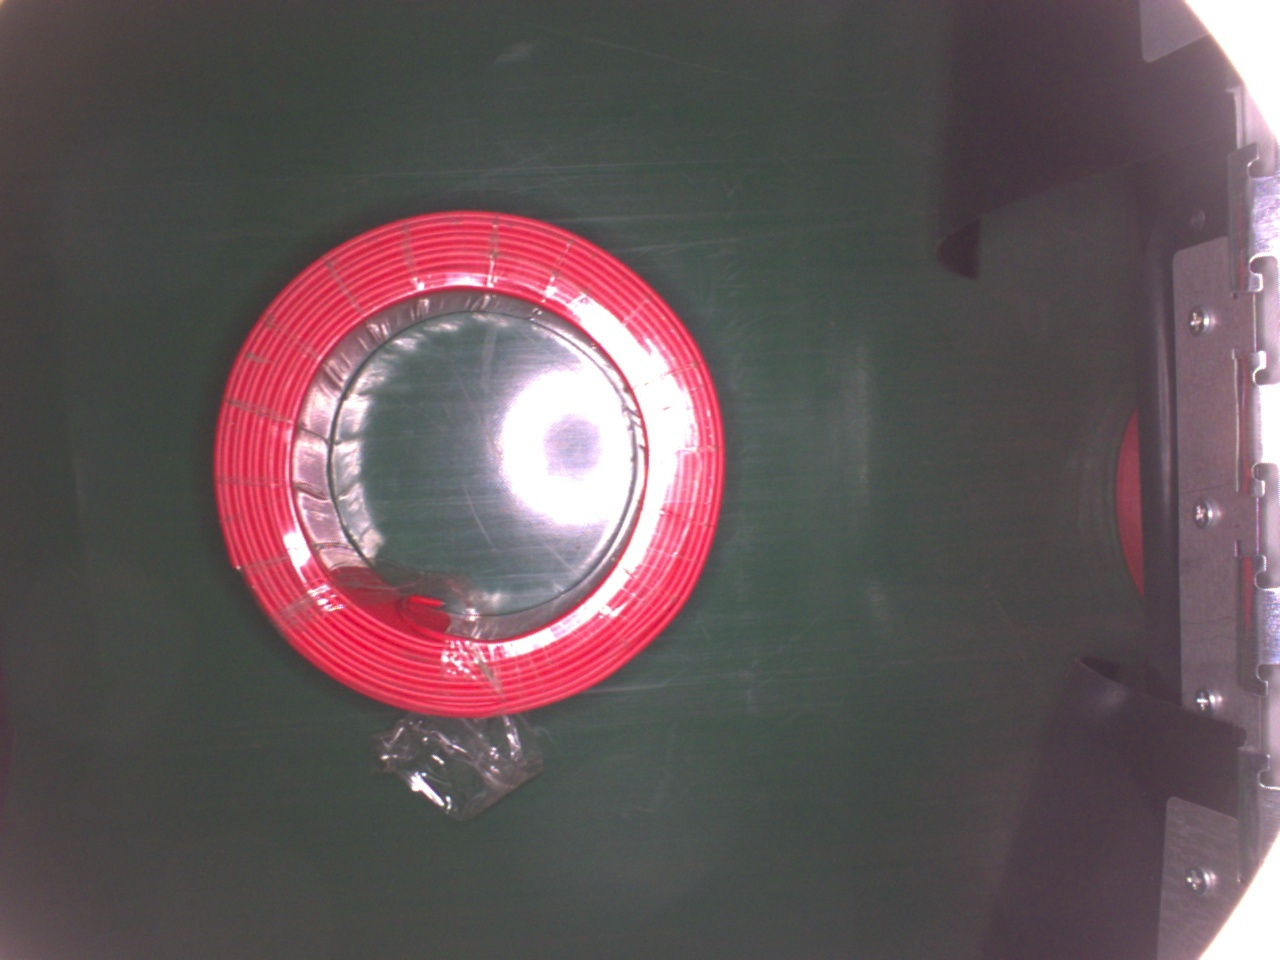red: (218, 203, 726, 716)
